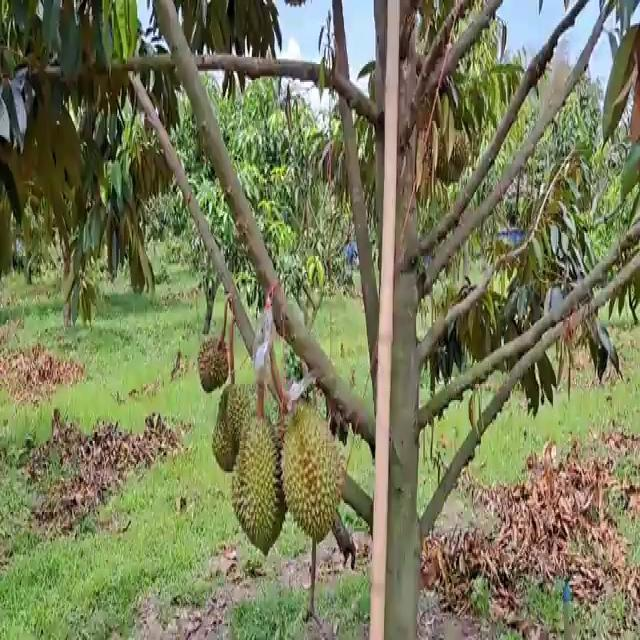durian: (277, 392, 348, 546), (229, 407, 292, 558), (210, 379, 258, 478), (195, 334, 232, 395)
